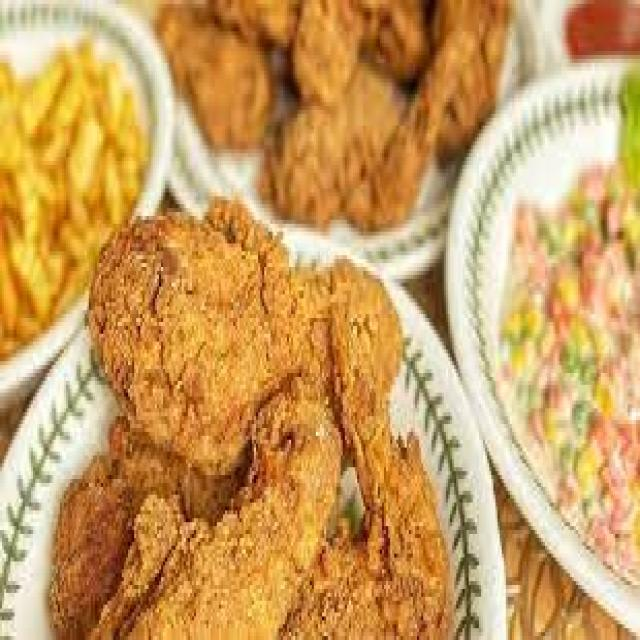Frango: (114, 377, 326, 640), (120, 247, 383, 431), (68, 422, 166, 598), (334, 467, 424, 640)
